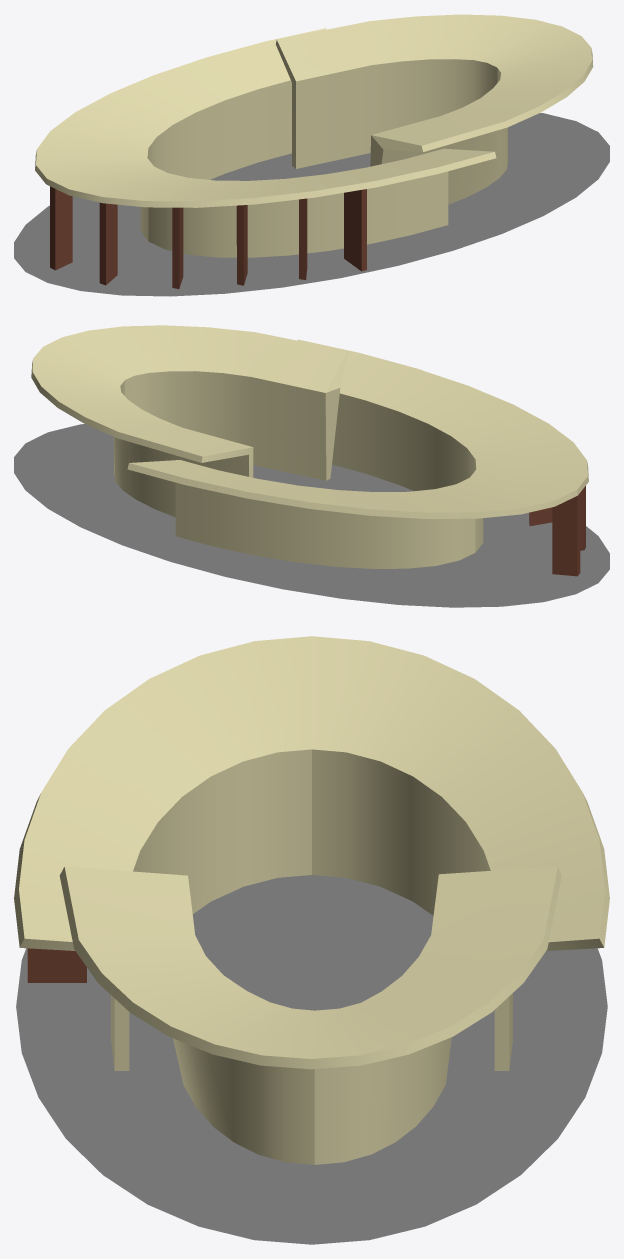
The model's file is EntradaJardinBotanico.fbx.
3 renders of one model, top to bottom at view 1: azimuth 30°, elevation 25°; view 2: azimuth 150°, elevation 25°; view 3: azimuth 270°, elevation 25°, orthographic. The views are drawn at different scales.
Parts seen in each view (by area): view 1: Circle, Circle.001, Circle.002, Cube; view 2: Circle, Circle.001, Circle.002, Cube; view 3: Circle, Circle.002, Circle.001, Cube.
Boxes of the visible parts, bbox=[...] form: Circle: bbox=[35, 28, 496, 257]; Circle.001: bbox=[275, 14, 593, 204]; Circle.002: bbox=[14, 113, 609, 296]; Cube: bbox=[50, 186, 366, 288]; Circle: bbox=[127, 339, 588, 568]; Circle.001: bbox=[31, 325, 348, 517]; Circle.002: bbox=[14, 424, 609, 607]; Cube: bbox=[529, 486, 585, 576]; Circle: bbox=[14, 636, 609, 1070]; Circle.002: bbox=[16, 875, 607, 1244]; Circle.001: bbox=[59, 866, 561, 1164]; Cube: bbox=[27, 948, 86, 982].
Size of the model in its own units: 526 by 88.84 by 278.
